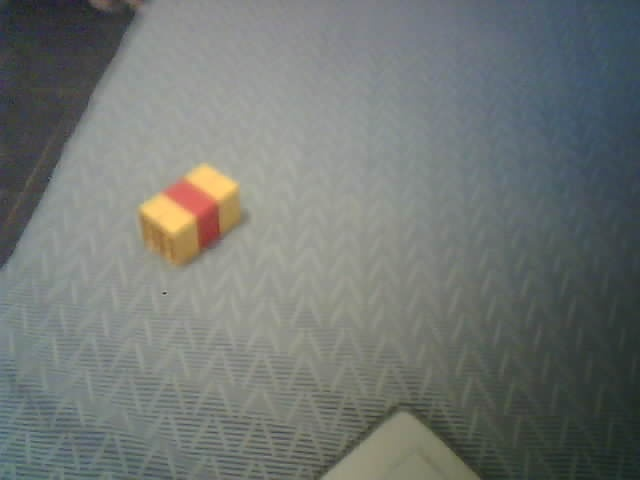lego: (136, 163, 242, 267)
